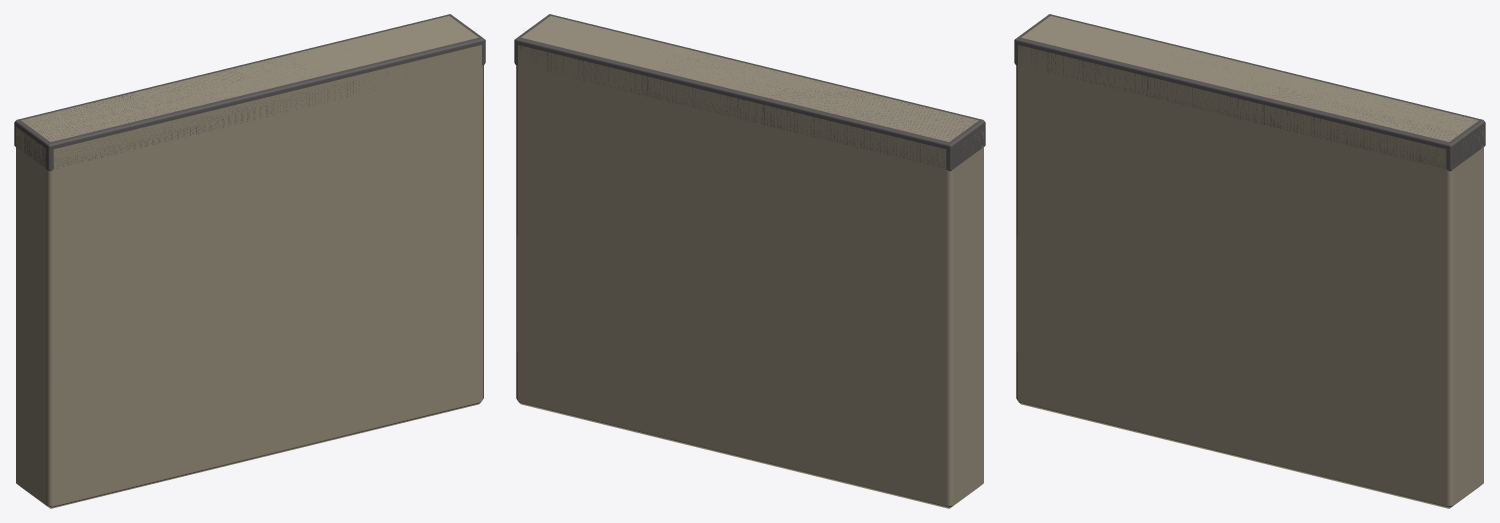
Rendered from stone-halls-stair-side.0266432d.glb.
The picture shows the model from 3 angles, left to right: view 1: azimuth 30°, elevation 25°; view 2: azimuth 150°, elevation 25°; view 3: azimuth 330°, elevation 25°; orthographic projection.
Visible parts, largest first — view 1: body; view 2: body; view 3: body.
Boxes of the visible parts, <box> form: body: <box>14,14,485,508</box>; body: <box>514,14,985,508</box>; body: <box>1014,14,1485,508</box>.
Bounding box in the file's own units: 1 × 0.8 × 0.14.
